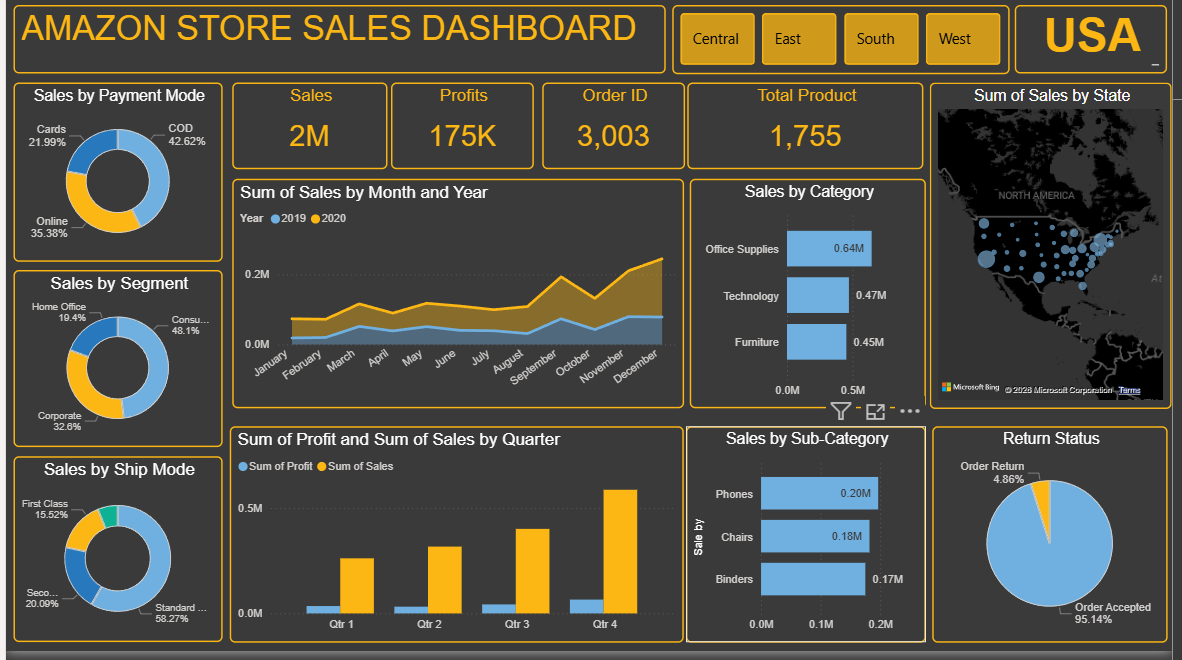

The page's visual inventory and layout, read from the dashboard file:
{"tool":"powerbi","page":{"name":"Page 1","canvas":[1280,720],"ordinal":0},"visuals":[{"type":"card","title":"Sales","fields":{"Values":["Sum(Amazon Store Sales Data xlsx -.Sales)","select"]},"box":[248.5,96.3,170.1,95.3],"z":0},{"type":"clusteredBarChart","title":" Sales by Category","fields":{"Category":["Amazon Store Sales Data xlsx -.Category"],"Y":["Sum(Amazon Store Sales Data xlsx -.Sales)"]},"box":[750.4,201.7,259.4,252.1],"z":1000},{"type":"card","title":"Total Product","fields":{"Values":["Count(Amazon Store Sales Data xlsx -.Product ID)"]},"box":[748,96.3,259.4,95.3],"z":2000},{"type":"card","title":"Order ID","fields":{"Values":["Count(Amazon Store Sales Data xlsx -.Order ID)"]},"box":[588.7,96.3,156.8,95.3],"z":3000},{"type":"card","title":"Profits","fields":{"Values":["Sum(Amazon Store Sales Data xlsx -.Profit)"]},"box":[422.3,96.3,156.8,95.3],"z":4000},{"type":"clusteredColumnChart","fields":{"Category":["Amazon Store Sales Data xlsx -.Order Date.Variation.Date Hierarchy.Quarter"],"Y":["Sum(Amazon Store Sales Data xlsx -.Profit)","Sum(Amazon Store Sales Data xlsx -.Sales)"]},"box":[245.9,472.9,498.3,237.7],"z":5000},{"type":"stackedAreaChart","fields":{"Category":["Amazon Store Sales Data xlsx -.Order Date.Variation.Date Hierarchy.Month"],"Y":["Sum(Amazon Store Sales Data xlsx -.Sales)"],"Series":["Amazon Store Sales Data xlsx -.Order Date.Variation.Date Hierarchy.Year"]},"box":[248.5,201.7,495.8,252.1],"z":6000},{"type":"advancedSlicerVisual","fields":{"Values":["Amazon Store Sales Data xlsx -.Region"]},"box":[730,11.4,370,75.7],"z":7000},{"type":"clusteredBarChart","title":"Sales by Sub-Category","fields":{"Category":["Amazon Store Sales Data xlsx -.Sub-Category"],"Y":["Sum(Amazon Store Sales Data xlsx -.Sales)"]},"box":[746.6,472.9,263,237.7],"z":8000},{"type":"textbox","title":"AMAZON STORE SALES DASHBOARD","box":[8.2,11,716.3,75.5],"z":9000},{"type":"donutChart","title":" Sales by Payment Mode","fields":{"Category":["Amazon Store Sales Data xlsx -.Payment Mode"],"Y":["Sum(Amazon Store Sales Data xlsx -.Sales)"]},"box":[8.4,96.5,229.2,196.6],"z":10000},{"type":"donutChart","title":"Sales by Segment","fields":{"Category":["Amazon Store Sales Data xlsx -.Segment"],"Y":["Sum(Amazon Store Sales Data xlsx -.Sales)"]},"box":[8.4,301.6,229.2,194.2],"z":11000},{"type":"donutChart","title":" Sales by Ship Mode","fields":{"Category":["Amazon Store Sales Data xlsx -.Ship Mode"],"Y":["Sum(Amazon Store Sales Data xlsx -.Sales)"]},"box":[8.4,506.7,229.2,203.9],"z":12000},{"type":"pieChart","title":"Return Status ","fields":{"Category":["Amazon Store Sales Data xlsx -.Return Status"],"Y":["CountNonNull(Amazon Store Sales Data xlsx -.Return Status)"]},"box":[1017,472.9,258.2,237.7],"z":13000},{"type":"tableEx","fields":{"Values":["Amazon Store Sales Data xlsx -.State","Sum(Amazon Store Sales Data xlsx -.Sales)"]},"box":[1014.6,96.5,265.4,358.3],"z":14000},{"type":"textbox","title":"USA","box":[1107.4,11,167.4,75.5],"z":15000}]}

Visuals, with their boxes in screenshot pixels (x1, y1, x2, y2), scaled from the page's 1280x720 canvas onto the 1182x660 screenshot:
"Sales" card: left=229, top=88, right=387, bottom=176
" Sales by Category" clusteredBarChart: left=693, top=185, right=932, bottom=416
"Total Product" card: left=691, top=88, right=930, bottom=176
"Order ID" card: left=544, top=88, right=688, bottom=176
"Profits" card: left=390, top=88, right=535, bottom=176
clusteredColumnChart - Amazon Store Sales Data xlsx -.Order Date.Variation.Date Hierarchy.Quarter x Sum(Amazon Store Sales Data xlsx -.Profit): left=227, top=433, right=687, bottom=651
stackedAreaChart - Amazon Store Sales Data xlsx -.Order Date.Variation.Date Hierarchy.Month x Sum(Amazon Store Sales Data xlsx -.Sales): left=229, top=185, right=687, bottom=416
advancedSlicerVisual - Amazon Store Sales Data xlsx -.Region: left=674, top=10, right=1016, bottom=80
"Sales by Sub-Category" clusteredBarChart: left=689, top=433, right=932, bottom=651
"AMAZON STORE SALES DASHBOARD" textbox: left=8, top=10, right=669, bottom=79
" Sales by Payment Mode" donutChart: left=8, top=88, right=219, bottom=269
"Sales by Segment" donutChart: left=8, top=276, right=219, bottom=454
" Sales by Ship Mode" donutChart: left=8, top=464, right=219, bottom=651
"Return Status " pieChart: left=939, top=433, right=1178, bottom=651
tableEx - Amazon Store Sales Data xlsx -.State x Sum(Amazon Store Sales Data xlsx -.Sales): left=937, top=88, right=1181, bottom=417
"USA" textbox: left=1023, top=10, right=1177, bottom=79
